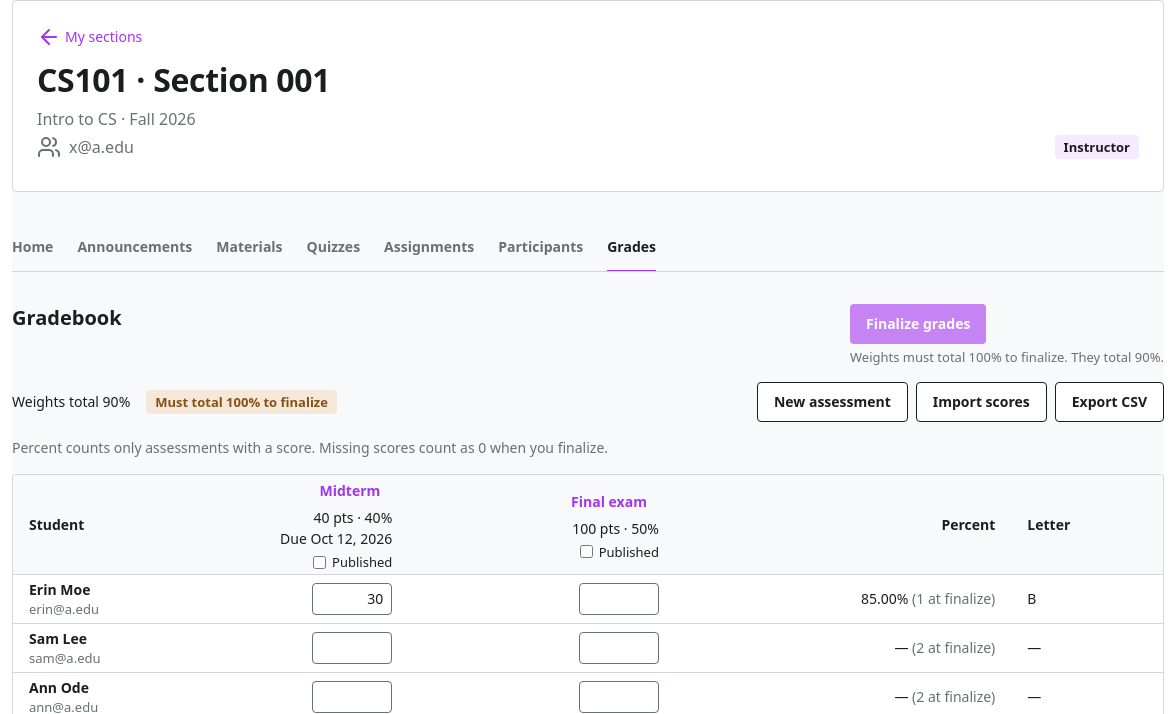
a server failure marks the cell and shows the page banner
Type "10" into the field named "Score for Sam Lee, Midterm" at (352, 648), box [312,632,392,664]
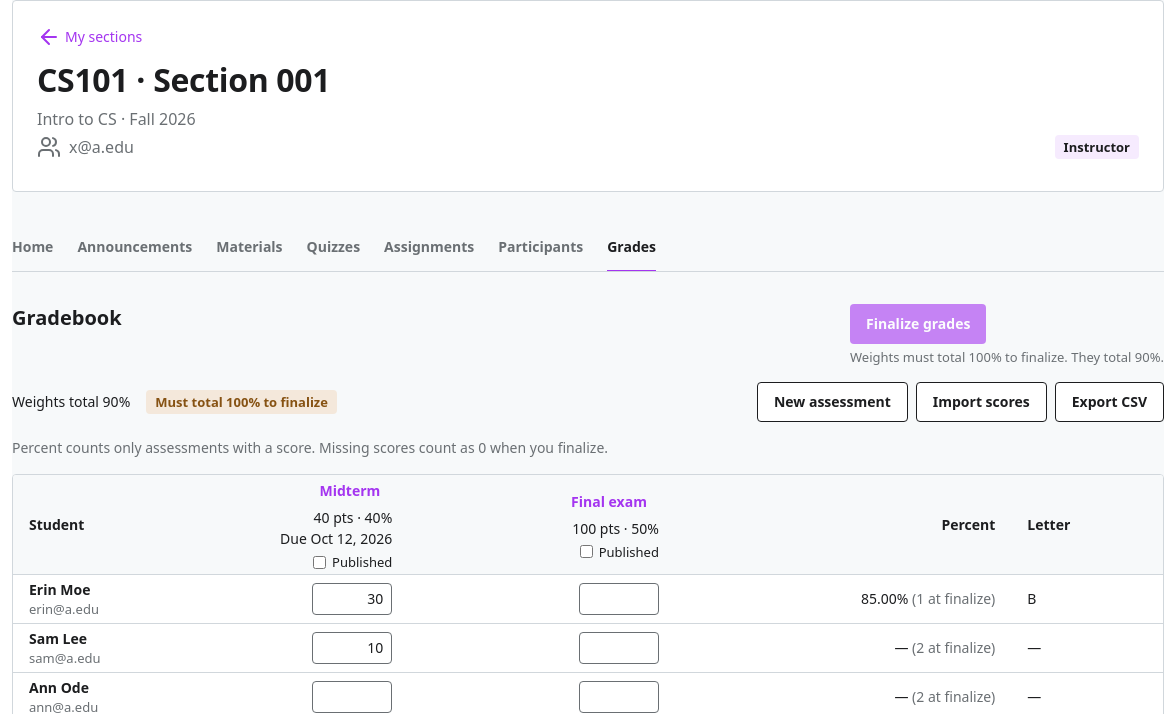
Leave the field named "Score for Sam Lee, Midterm", box [312,632,392,664]
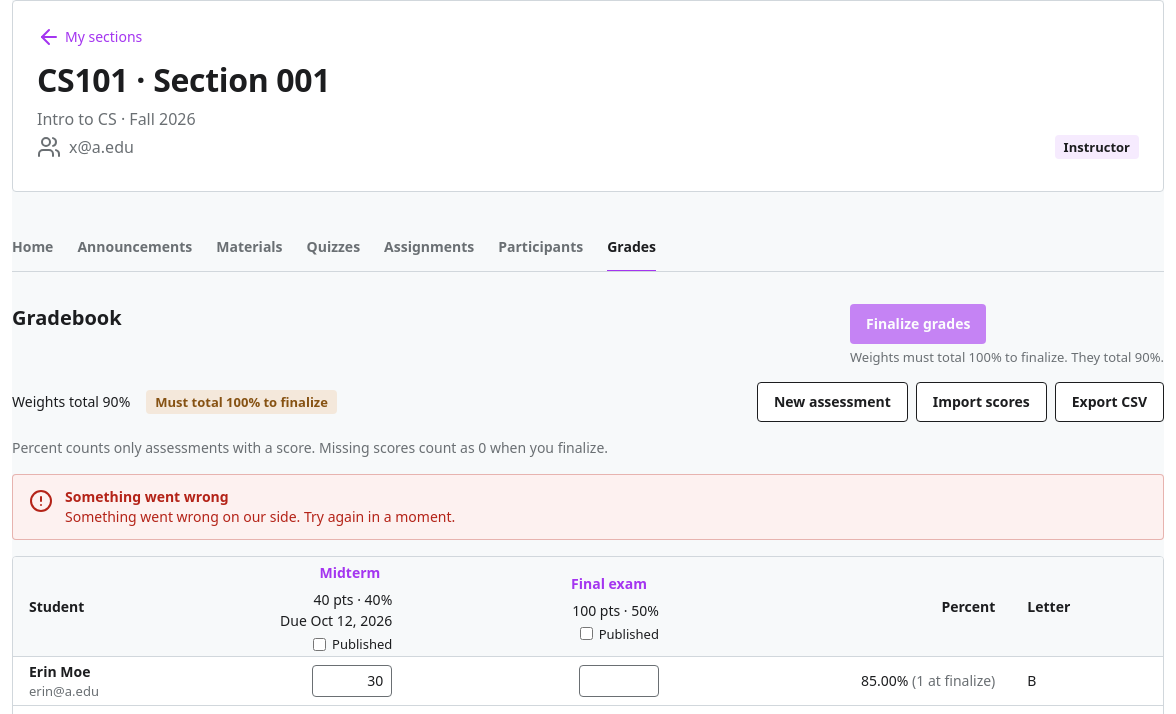
Expected: the message shows "Something went wrong on our side", [65,507,455,526]
